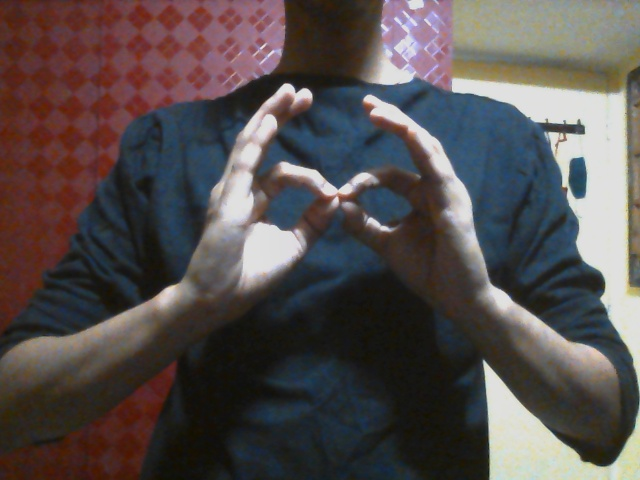B: (193, 82, 481, 346)
